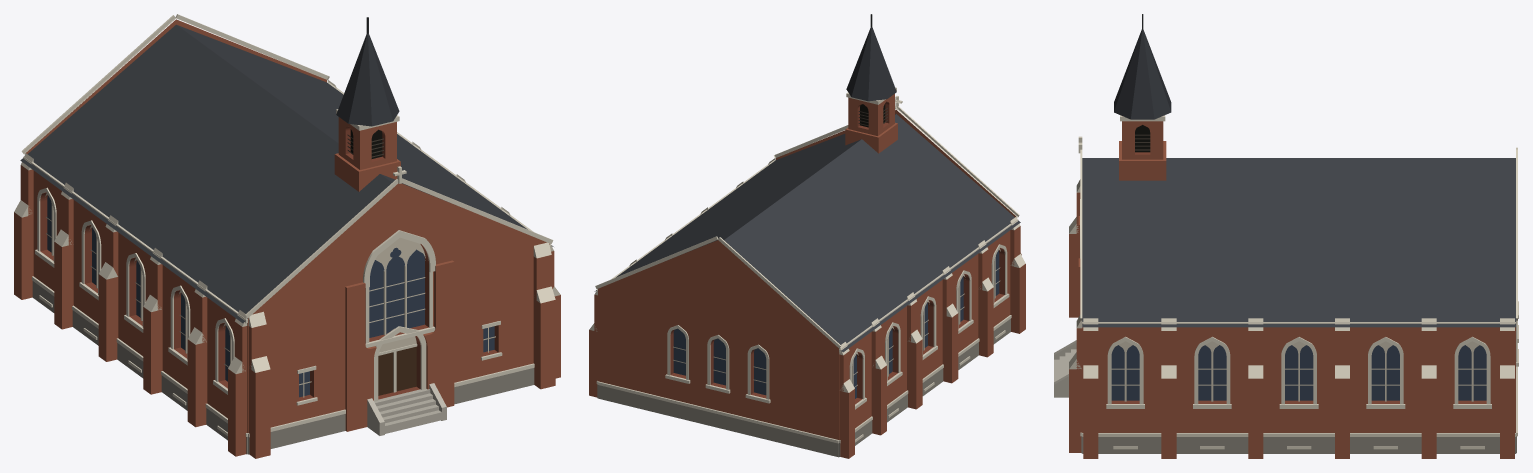
File: ch-highland-methodist-1961.glb
3 renders of one model, left to right at view 1: azimuth 30°, elevation 25°; view 2: azimuth 150°, elevation 25°; view 3: azimuth 270°, elevation 25°, orthographic. The views are drawn at different scales.
Parts seen in each view (by area): view 1: ch_brick, ch_roof, ch_trim, ch_stain, ch_base, ch_brick2, ch_roof2, ch_conc, ch_trc, ch_door; view 2: ch_brick, ch_roof, ch_trim, ch_base, ch_brick2, ch_stain, ch_roof2, ch_trc; view 3: ch_roof, ch_brick, ch_trim, ch_stain, ch_base, ch_roof2, ch_trc, ch_conc, ch_brick2.
Boxes of the visible parts, <box> form: ch_brick: <box>14,19,560,458</box>; ch_roof: <box>20,24,553,323</box>; ch_trim: <box>14,14,560,437</box>; ch_stain: <box>47,195,494,397</box>; ch_base: <box>32,281,534,454</box>; ch_brick2: <box>40,126,498,401</box>; ch_roof2: <box>336,33,399,126</box>; ch_conc: <box>367,383,446,435</box>; ch_trc: <box>45,193,425,367</box>; ch_door: <box>378,346,416,395</box>; ch_brick: <box>589,94,1025,458</box>; ch_roof: <box>594,114,1020,352</box>; ch_trim: <box>589,87,1025,443</box>; ch_base: <box>597,318,1010,457</box>; ch_brick2: <box>670,101,1004,404</box>; ch_stain: <box>673,250,999,398</box>; ch_roof2: <box>846,27,896,101</box>; ch_trc: <box>673,248,1000,387</box>; ch_roof: <box>1082,158,1515,327</box>; ch_brick: <box>1069,121,1515,458</box>; ch_trim: <box>1069,115,1518,449</box>; ch_stain: <box>1111,345,1486,400</box>; ch_base: <box>1081,436,1516,453</box>; ch_roof2: <box>1114,29,1171,119</box>; ch_trc: <box>1111,341,1486,401</box>; ch_conc: <box>1054,340,1076,397</box>; ch_brick2: <box>1111,116,1486,403</box>.
Size of the model in its own units: 19.4 by 21.5 by 24.66.
